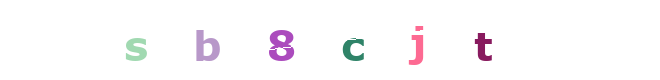8: (291, 0, 371, 80)
B: (248, 0, 328, 80)
C: (312, 0, 392, 80)
J: (378, 0, 458, 80)
S: (150, 0, 230, 80)
T: (442, 0, 522, 80)
